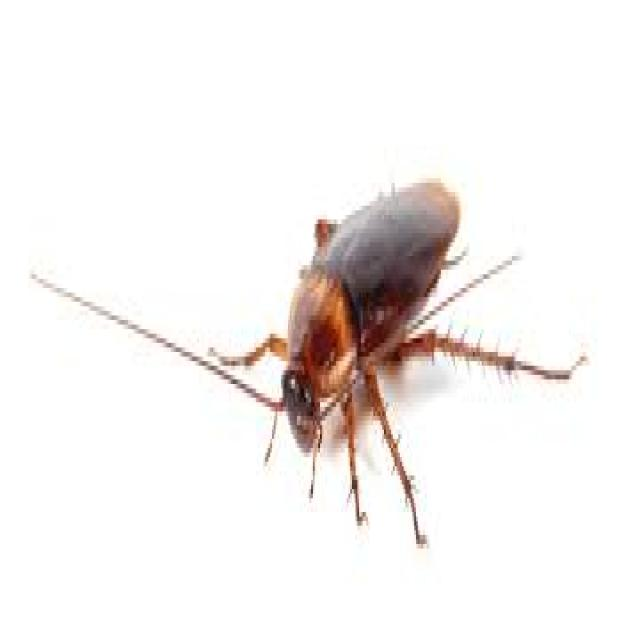Cockroach: (188, 123, 588, 540)
